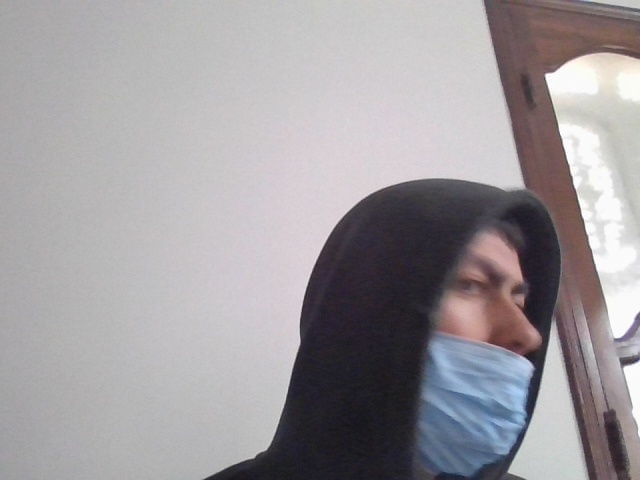mask_weared_incorrect: (410, 202, 544, 480)
